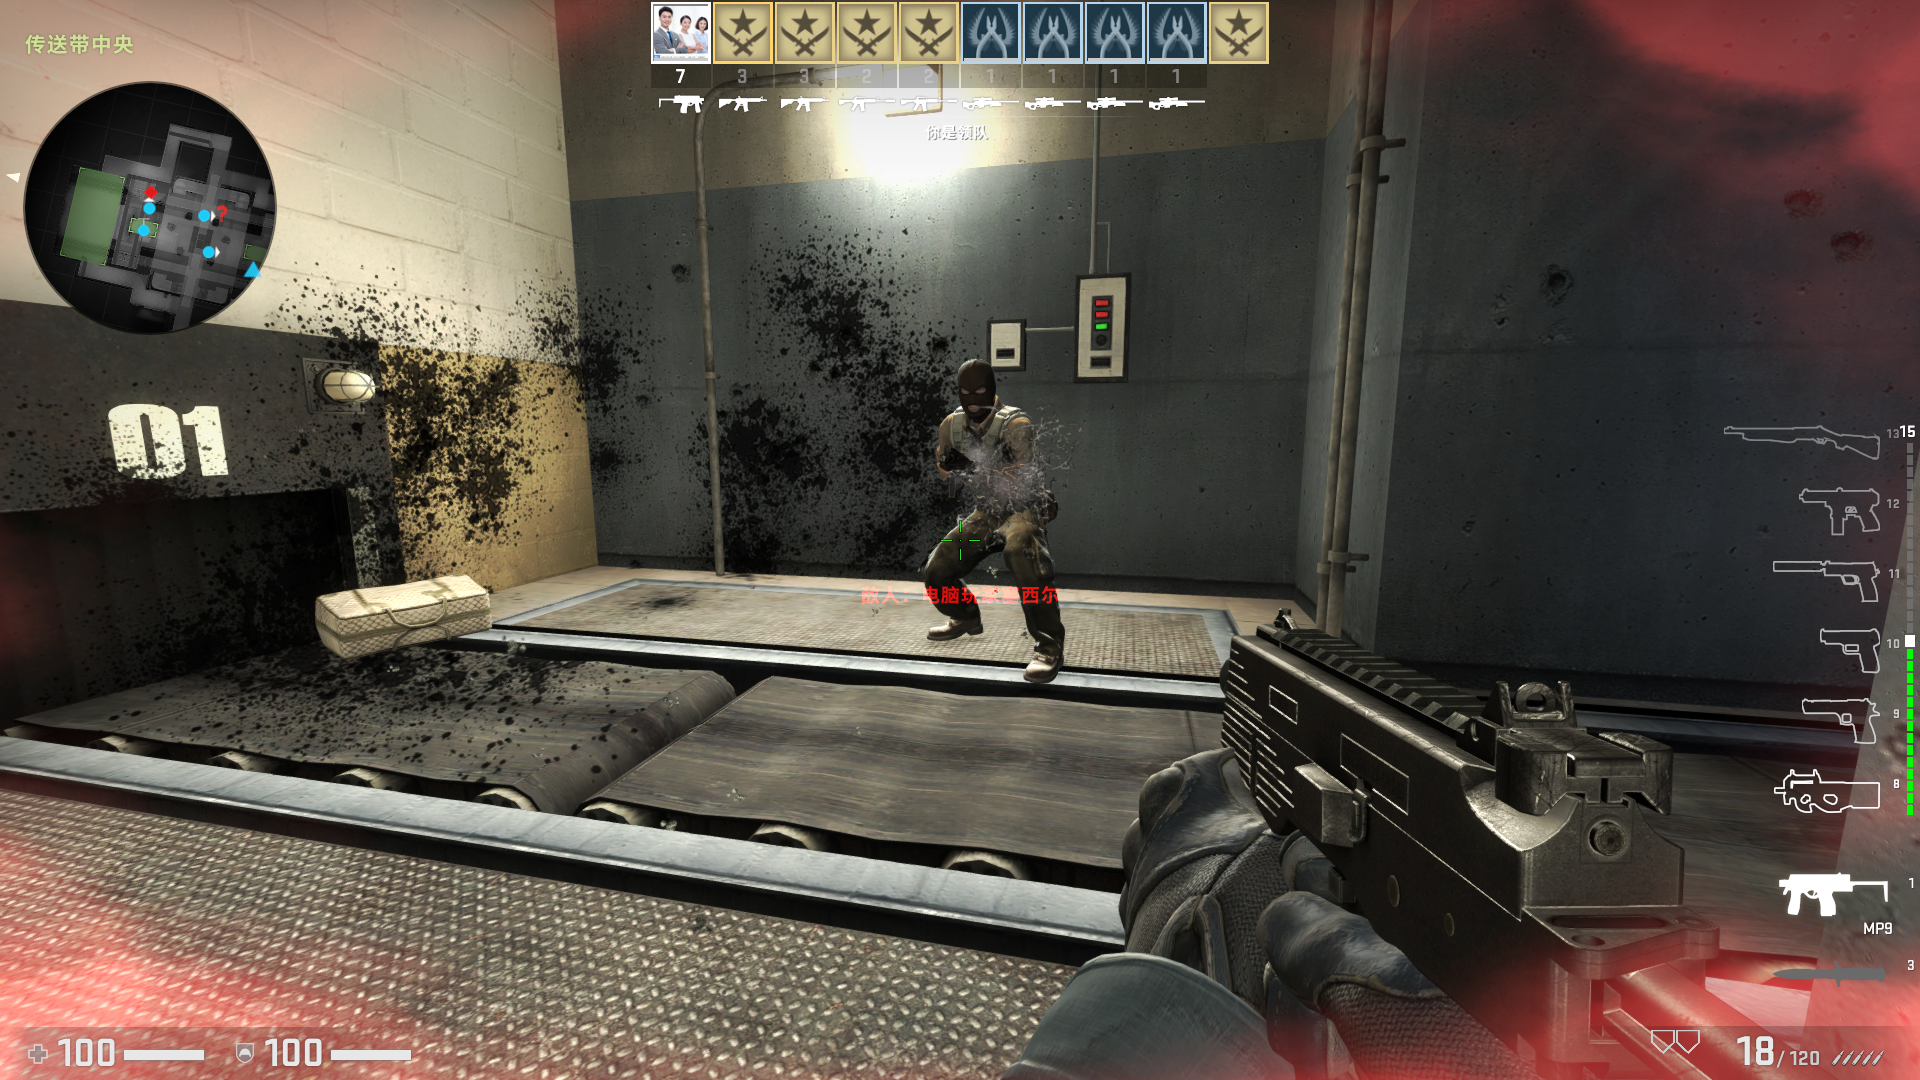person: (923, 358, 1065, 681)
